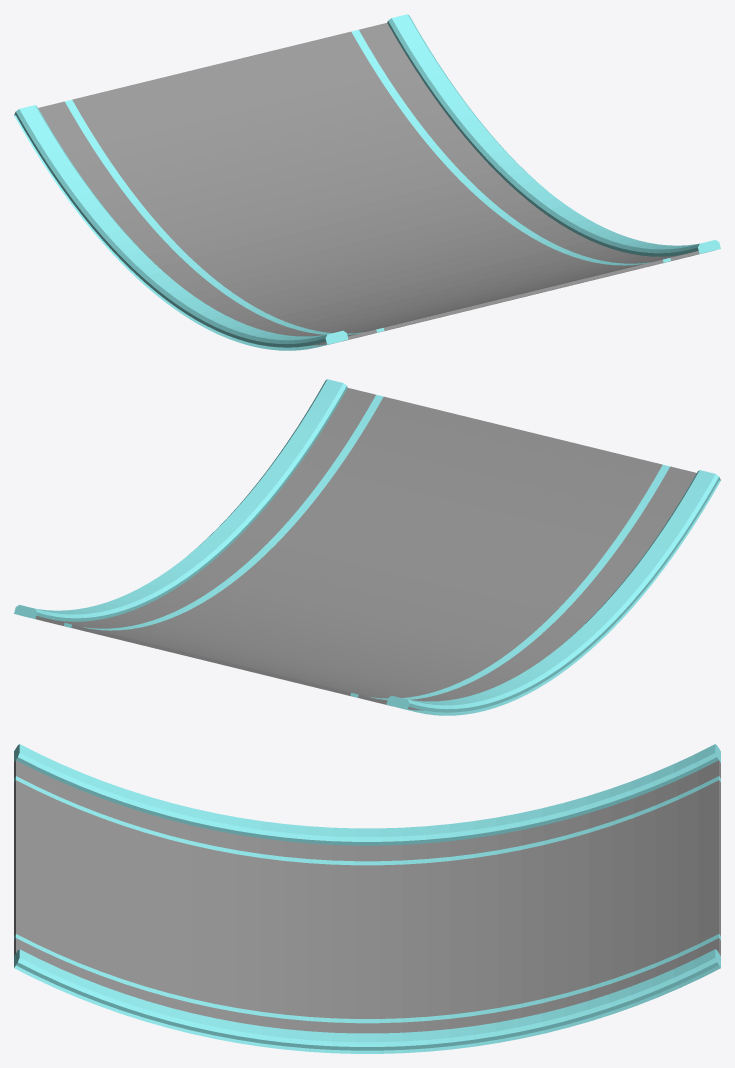
The model's file is NEW RAMP 60@.FBX.
3 renders of one model, top to bottom at view 1: azimuth 30°, elevation 25°; view 2: azimuth 150°, elevation 25°; view 3: azimuth 270°, elevation 25°, orthographic. The views are drawn at different scales.
Visible parts, largest first — view 1: Plane002; view 2: Plane002; view 3: Plane002.
Boxes of the visible parts, x1,y1,x2,y2 form: Plane002: (14, 14, 720, 350); Plane002: (14, 379, 720, 715); Plane002: (14, 744, 720, 1053).
Size of the model in its own units: 0.0075 by 0.00153 by 0.0103.
